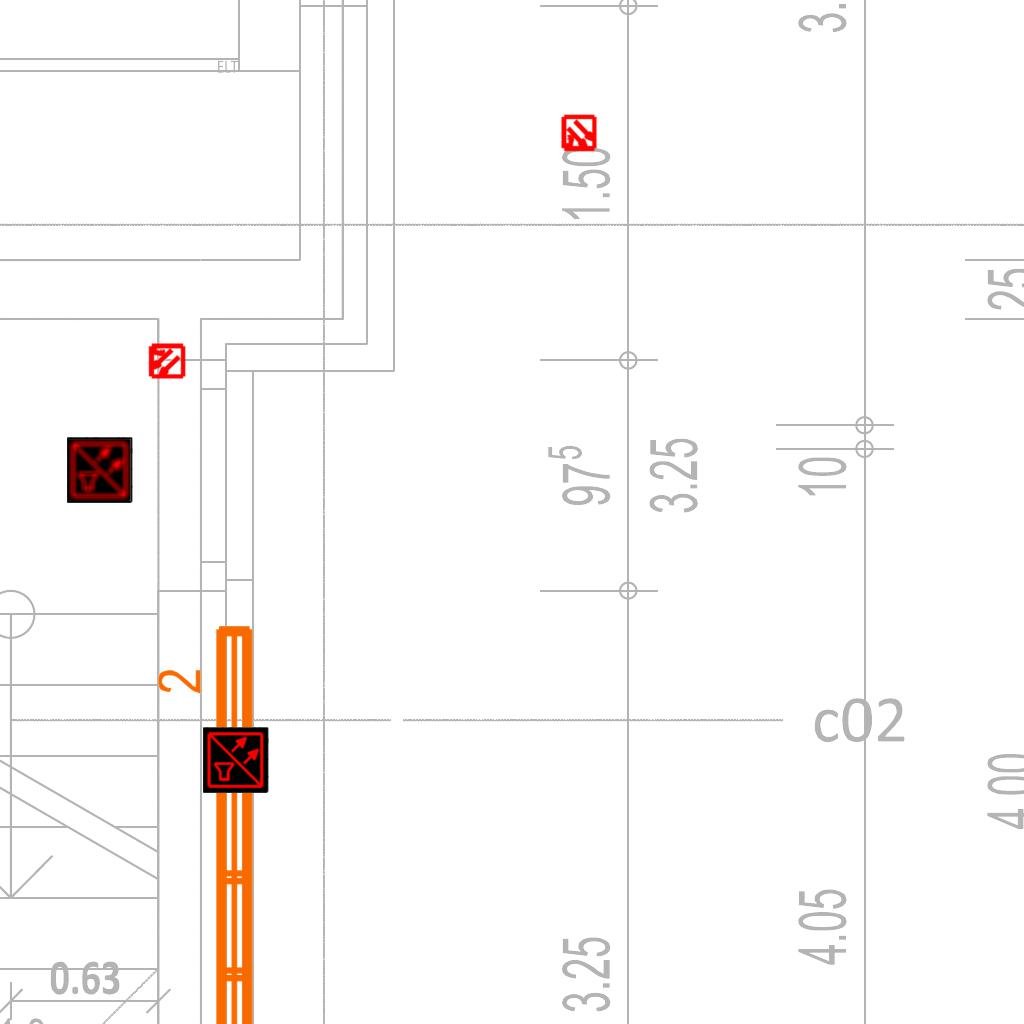Ambulanz_Pendelleuchte_LED: (153, 617, 265, 1024)
OKW_Multisensormelder_(Kombination_optischer_Rauch-Kahlenmonoxid_Waerme-Melder): (67, 437, 133, 503), (203, 727, 269, 793)
OT_Multisensormelder_(Kombination_RMO_WMD): (551, 106, 607, 162), (138, 333, 194, 389)
